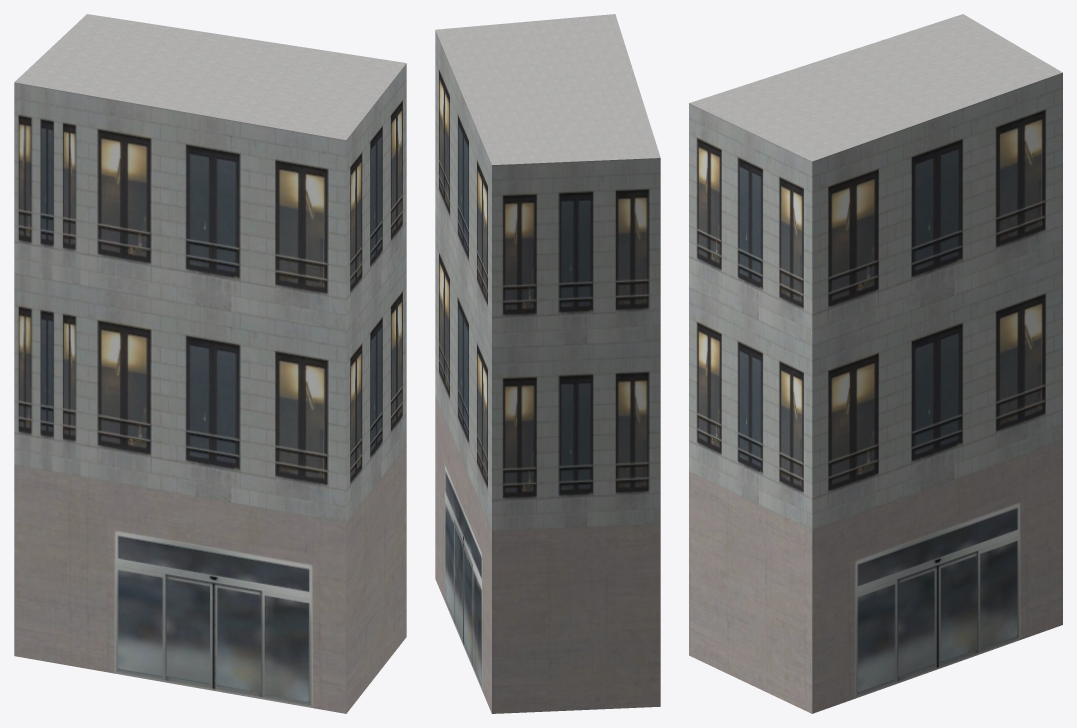
The picture shows the model from 3 angles, left to right: view 1: azimuth 30°, elevation 25°; view 2: azimuth 150°, elevation 25°; view 3: azimuth 270°, elevation 25°; orthographic projection. The views are drawn at different scales.
Parts seen in each view (by area): view 1: BuildingMaster_1978193229814462790900000000_0, BuildingMaster_1978193229814462790900000000_1; view 2: BuildingMaster_1978193229814462790900000000_0, BuildingMaster_1978193229814462790900000000_1; view 3: BuildingMaster_1978193229814462790900000000_0, BuildingMaster_1978193229814462790900000000_1.
Boxes of the visible parts, left/top/right/bottom form: BuildingMaster_1978193229814462790900000000_0: left=14, top=64, right=406, bottom=713; BuildingMaster_1978193229814462790900000000_1: left=14, top=14, right=406, bottom=139; BuildingMaster_1978193229814462790900000000_0: left=435, top=30, right=660, bottom=713; BuildingMaster_1978193229814462790900000000_1: left=435, top=14, right=660, bottom=164; BuildingMaster_1978193229814462790900000000_0: left=689, top=72, right=1062, bottom=713; BuildingMaster_1978193229814462790900000000_1: left=689, top=14, right=1062, bottom=161.
Bounding box in the file's own units: 6.02 × 10.5 × 6.44.
2 materials, 2 textured.
